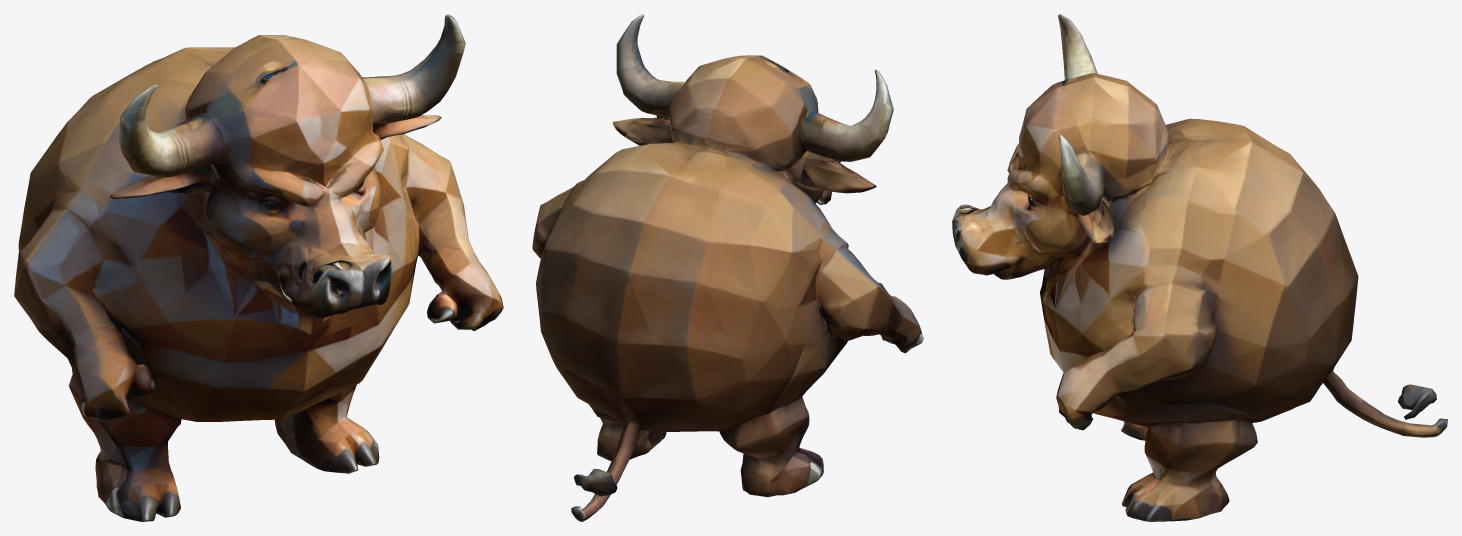
Rendered from enemy_3.glb.
3 views of the same model, side by side, from view 1: azimuth 30°, elevation 25°; view 2: azimuth 150°, elevation 25°; view 3: azimuth 270°, elevation 25° (orthographic). The views are drawn at different scales.
Size of the model in its own units: 1.66 by 1.78 by 2.01.
Materials: 1 (1 with a texture image).
